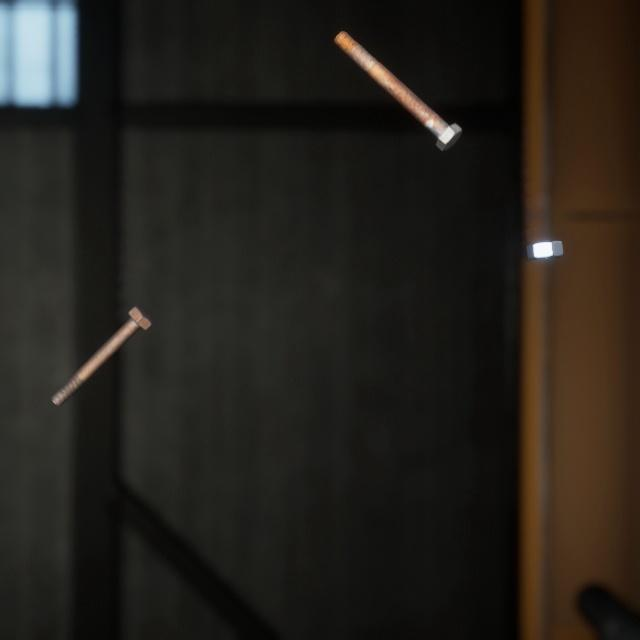bolt: (329, 17, 466, 145), (46, 282, 157, 393)
nut: (521, 220, 567, 248)
